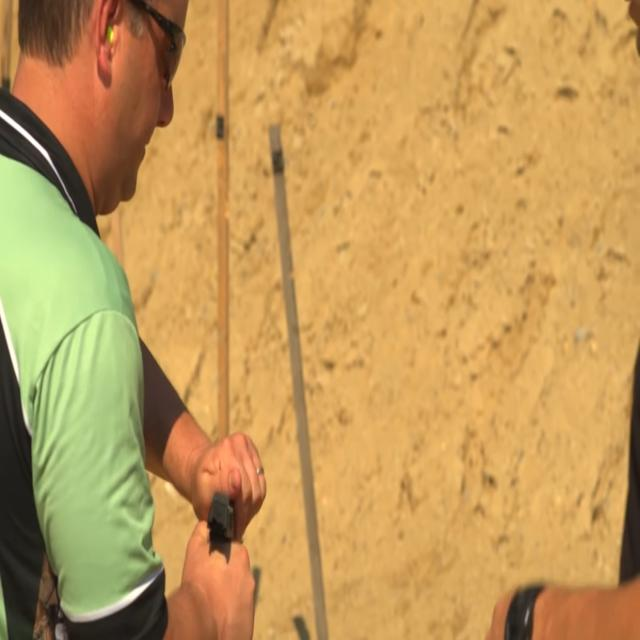Gun_Holder: (185, 434, 274, 600)
Person: (0, 0, 257, 626)
